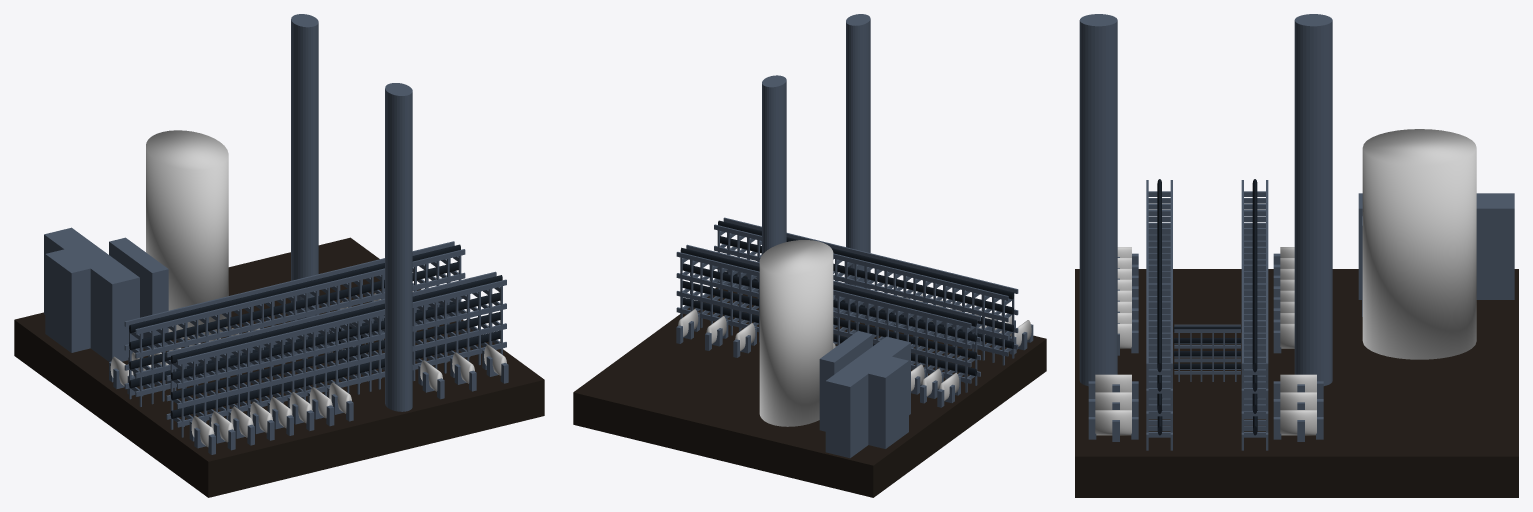
The model's file is Cooling Water System_cube.fbx.
3 renders of one model, left to right at view 1: azimuth 30°, elevation 25°; view 2: azimuth 150°, elevation 25°; view 3: azimuth 270°, elevation 25°, orthographic. The views are drawn at different scales.
Parts seen in each view (by area): view 1: CoolingWaterSystem_cube; view 2: CoolingWaterSystem_cube; view 3: CoolingWaterSystem_cube.
Part boxes in pixels (x1=…): CoolingWaterSystem_cube: x1=14, y1=14, x2=544, y2=497; CoolingWaterSystem_cube: x1=573, y1=14, x2=1046, y2=497; CoolingWaterSystem_cube: x1=1075, y1=14, x2=1518, y2=497.
Bounding box in the file's own units: 100 × 100 × 100.
